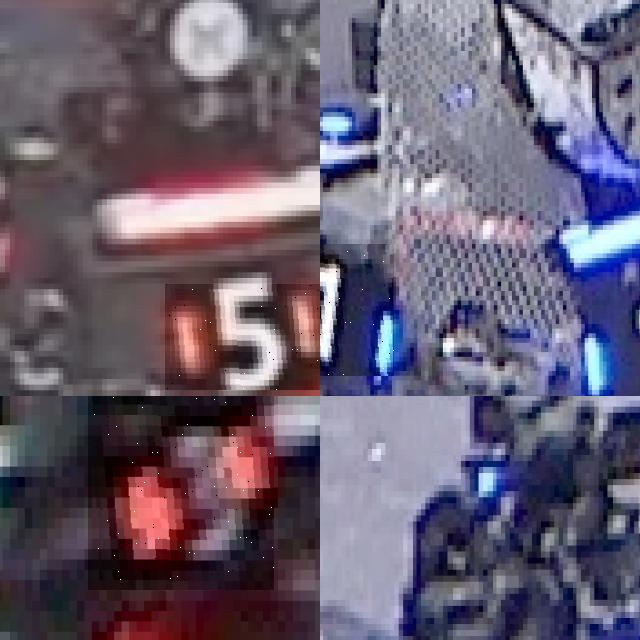B1: (320, 244, 395, 376), (581, 286, 640, 396)
R3: (88, 396, 274, 590)
R5: (165, 283, 320, 390)
